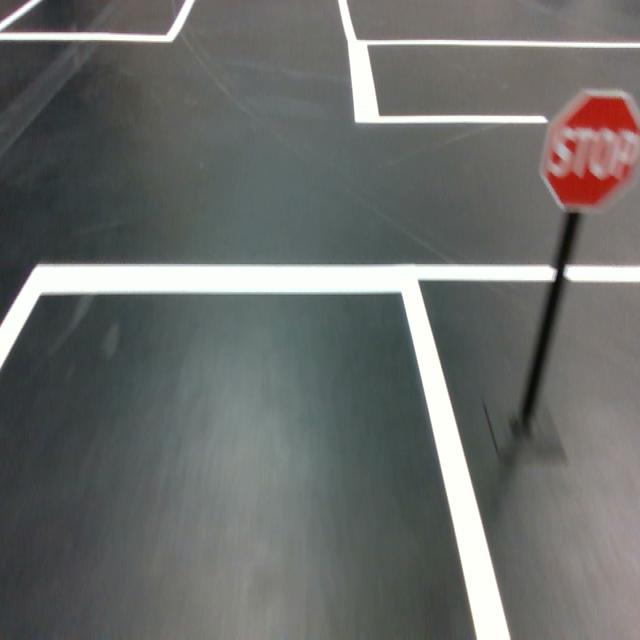stop-sign: (537, 86, 640, 217)
